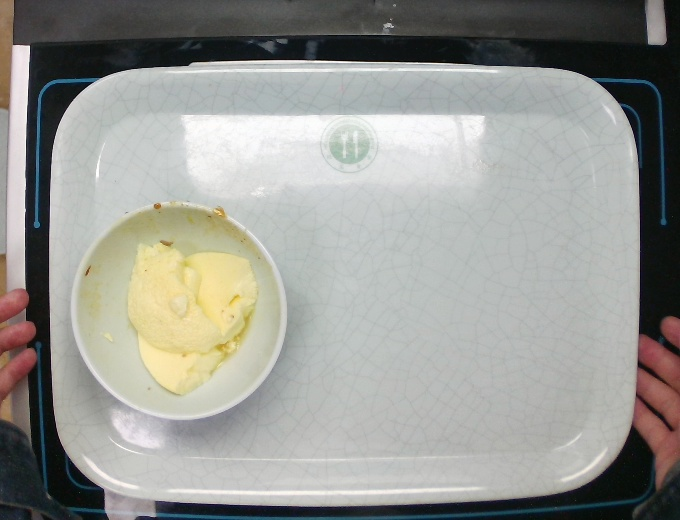JYsf-Fan_Wan: (68, 197, 292, 424)
